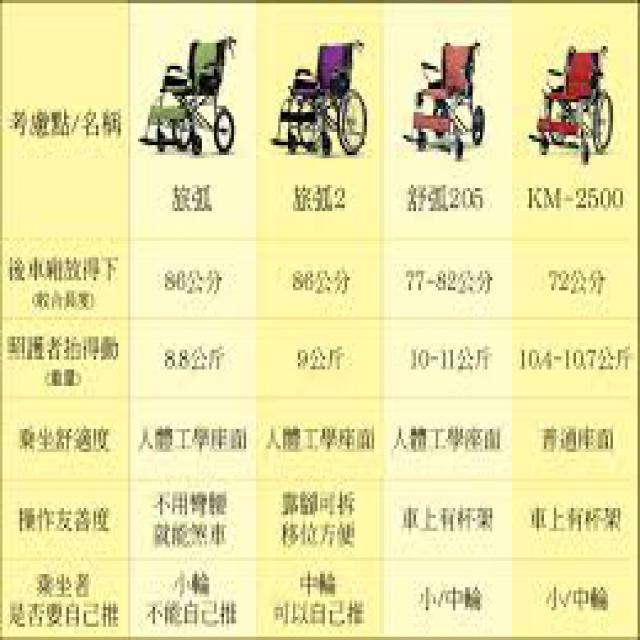wheelchair: (133, 17, 244, 158), (380, 30, 494, 162), (510, 36, 626, 162), (264, 30, 374, 156)
